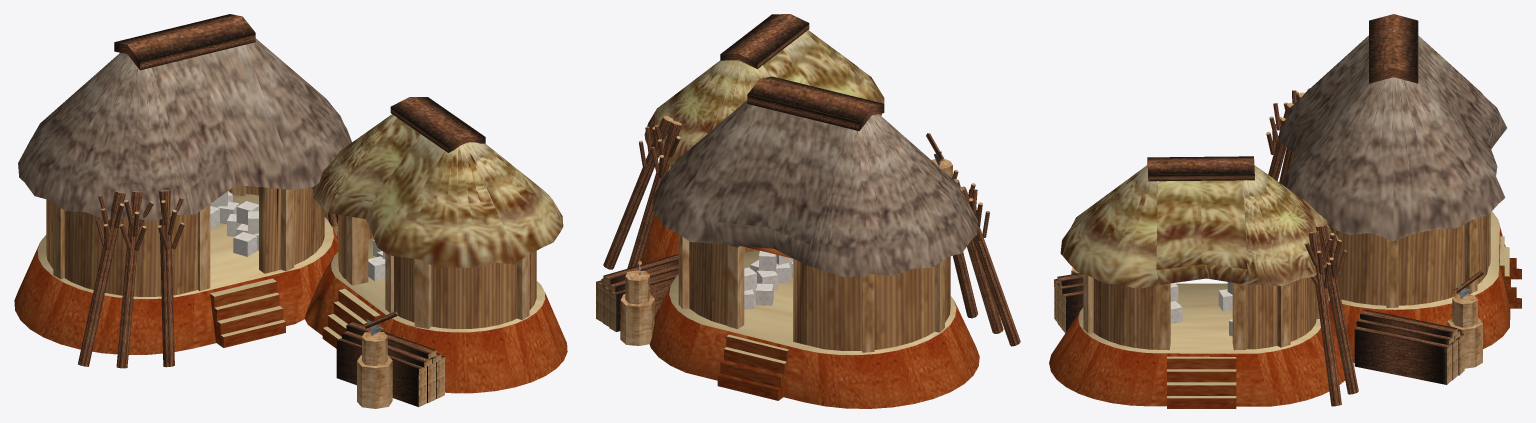
Rendered from storehouse_2.dae.
3 renders of one model, left to right at view 1: azimuth 30°, elevation 25°; view 2: azimuth 150°, elevation 25°; view 3: azimuth 270°, elevation 25°, orthographic. The views are drawn at different scales.
Visible parts, largest first — view 1: storehouse_2; view 2: storehouse_2; view 3: storehouse_2.
Boxes of the visible parts, bbox=[...] form: storehouse_2: bbox=[14, 14, 567, 408]; storehouse_2: bbox=[596, 14, 1020, 408]; storehouse_2: bbox=[1049, 14, 1521, 408].
Bounding box in the file's own units: 14.85 × 15.58 × 9.2.
Materials: 1 (1 with a texture image).
